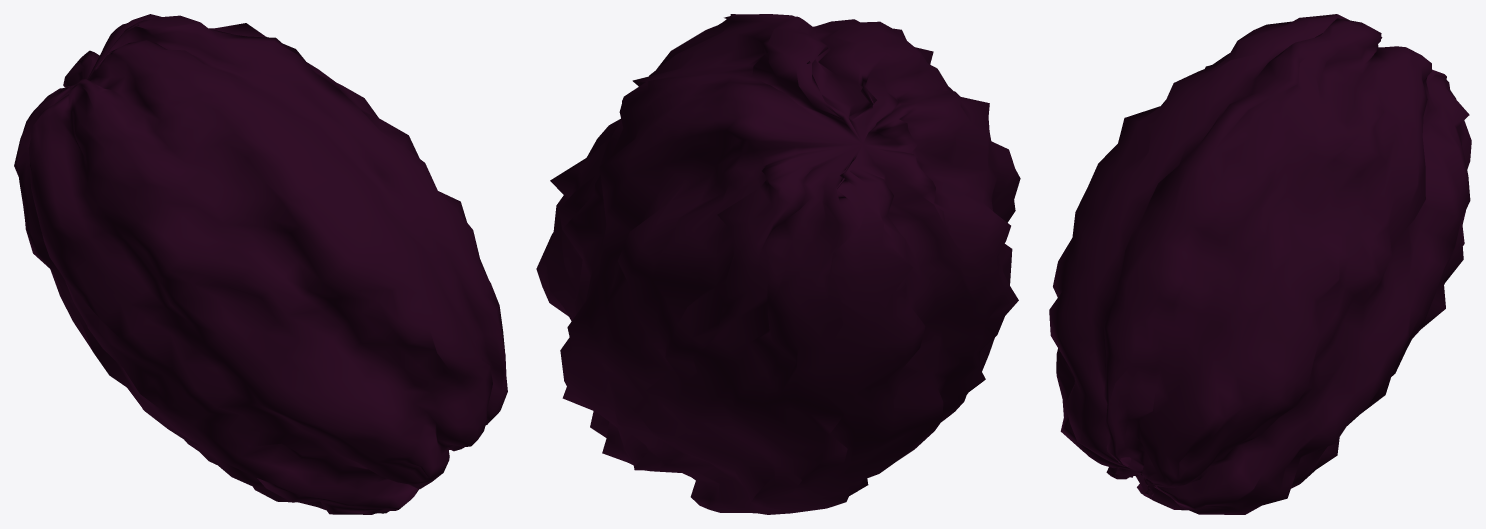
Rendered from raisin.glb.
The picture shows the model from 3 angles, left to right: view 1: azimuth 30°, elevation 25°; view 2: azimuth 150°, elevation 25°; view 3: azimuth 270°, elevation 25°; orthographic projection. The views are drawn at different scales.
Parts seen in each view (by area): view 1: raisin.001; view 2: raisin.001; view 3: raisin.001.
Boxes of the visible parts, bbox=[...] form: raisin.001: bbox=[14, 14, 507, 514]; raisin.001: bbox=[536, 14, 1020, 514]; raisin.001: bbox=[1049, 14, 1471, 514].
Bounding box in the file's own units: 0.3128 × 0.337 × 0.3033.
